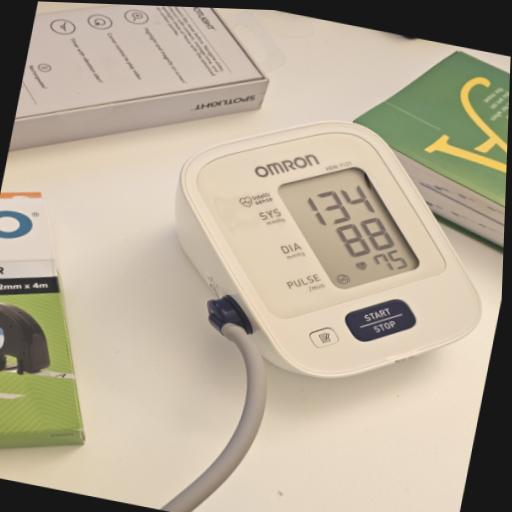blood pressure monitor: (141, 89, 509, 409)
